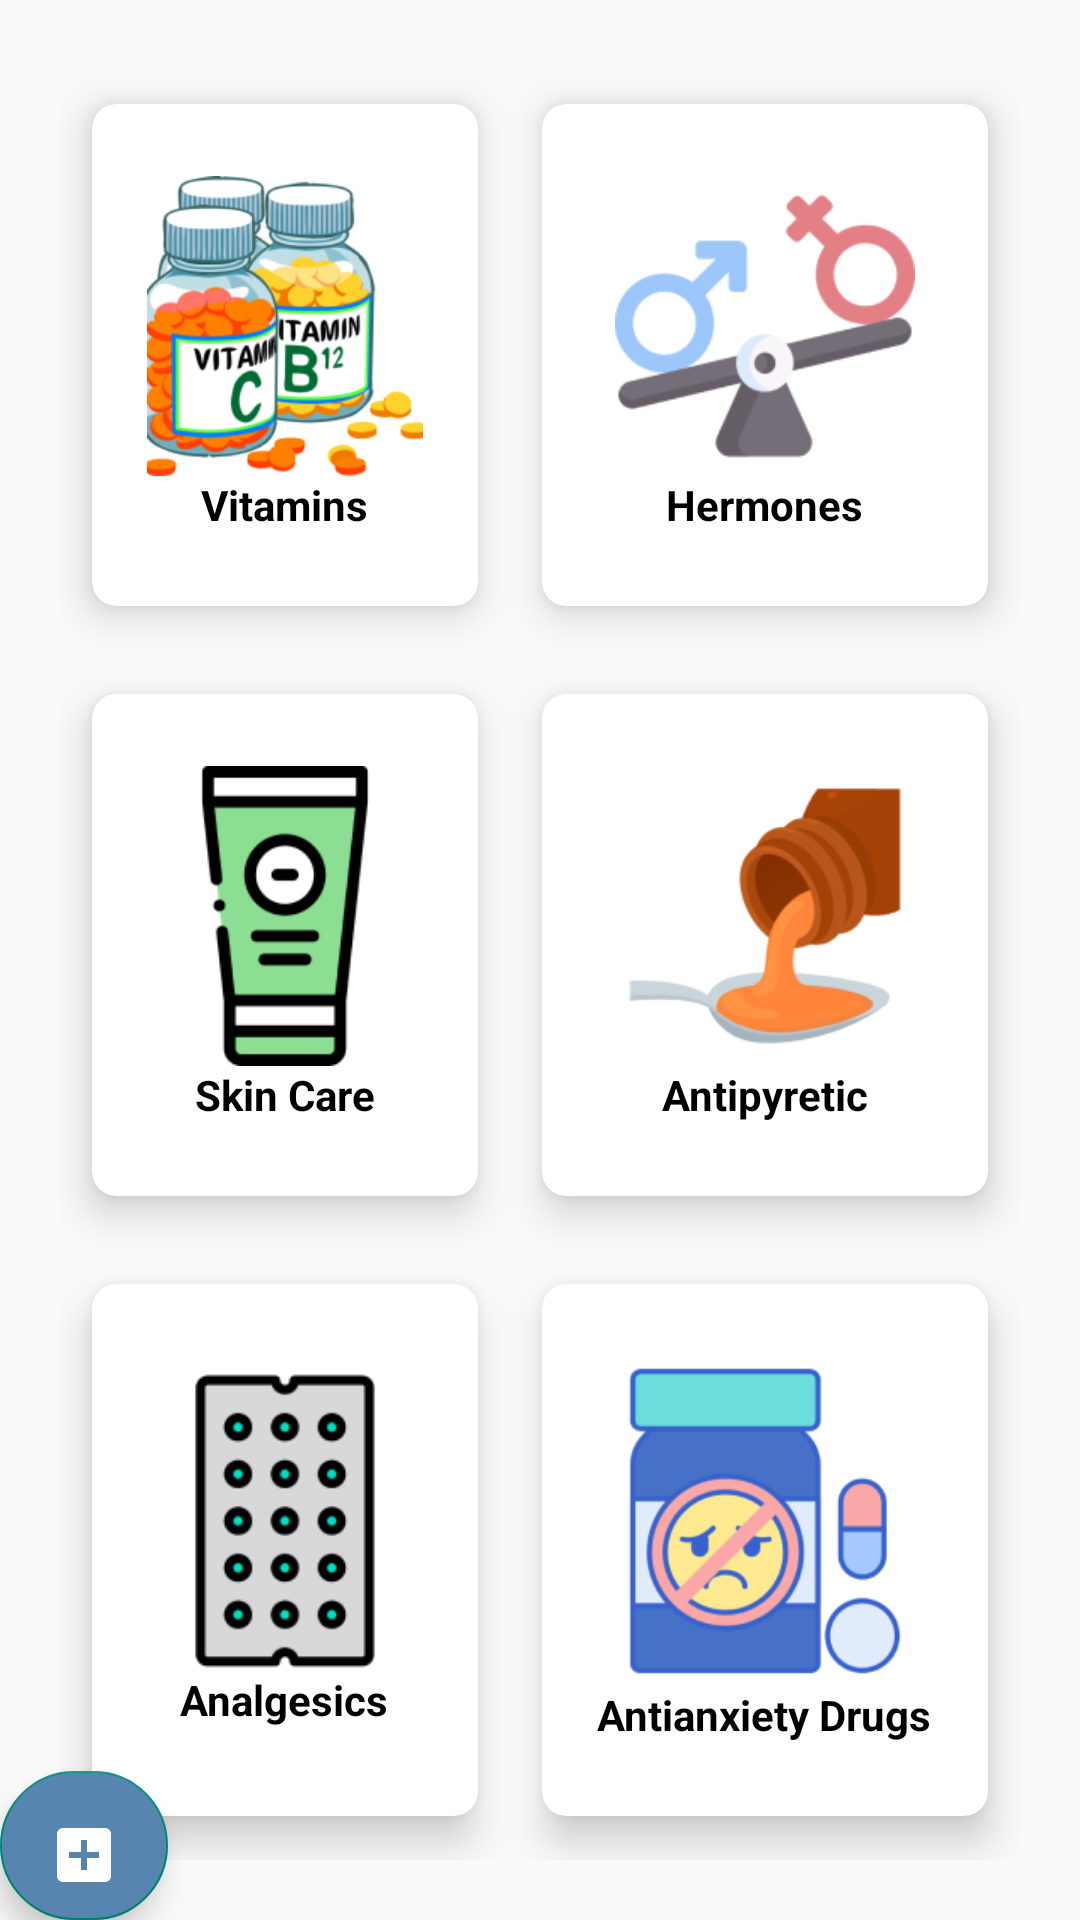

Named icons in this screenshot (1080 × 1920) and their centers, [x,y]:
add box: [84,1845]
lotion: [284,916]
tablets: [285,1521]
tinctures: [765,916]
